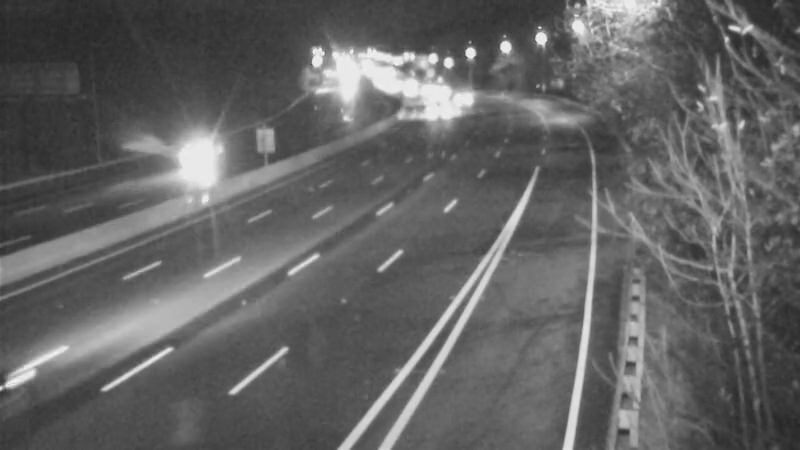vehicle: (146, 112, 226, 192), (415, 67, 465, 117), (438, 77, 488, 127), (409, 87, 459, 137), (405, 77, 455, 127)
